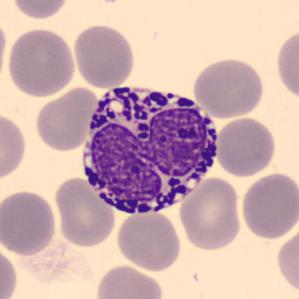Basophil: (72, 74, 228, 224)
Platelets: (96, 0, 124, 5)
RBC: (5, 26, 77, 99), (177, 175, 244, 253), (190, 55, 267, 120), (52, 174, 117, 249), (114, 208, 184, 273), (32, 85, 99, 152), (71, 22, 137, 90), (239, 170, 297, 242), (0, 188, 59, 258), (214, 115, 277, 178), (92, 262, 166, 299), (0, 109, 29, 183), (274, 26, 298, 104), (274, 223, 298, 295), (9, 0, 71, 21), (0, 244, 19, 299), (0, 16, 8, 89)
